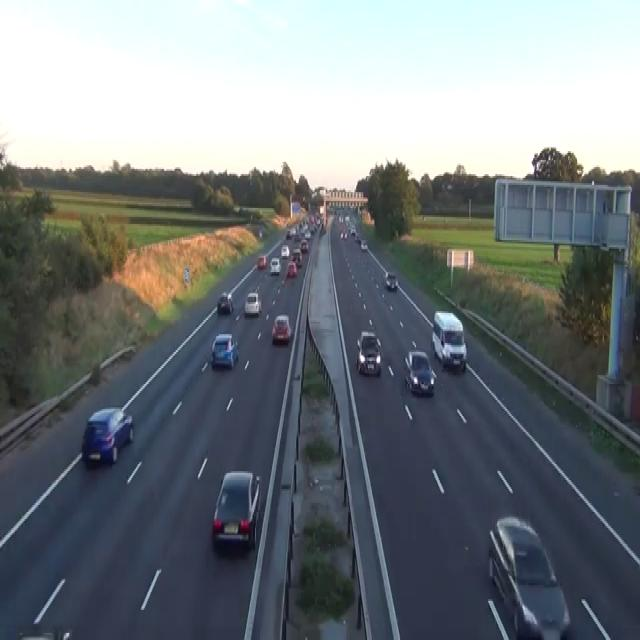Car: (487, 514, 571, 638), (212, 469, 260, 551), (81, 405, 134, 466), (403, 348, 436, 396), (355, 331, 381, 375), (210, 332, 239, 370), (441, 331, 467, 372), (271, 313, 291, 343), (216, 290, 234, 314), (17, 630, 71, 638), (243, 292, 261, 314), (383, 270, 397, 290), (292, 247, 302, 267), (270, 256, 280, 274), (287, 262, 297, 278), (257, 254, 266, 268), (280, 244, 289, 258), (300, 238, 308, 252), (292, 247, 301, 258), (360, 238, 367, 251), (340, 229, 347, 240), (350, 224, 356, 235), (344, 215, 350, 226), (354, 233, 361, 242), (233, 204, 240, 213), (286, 228, 292, 238), (304, 230, 311, 238), (294, 231, 300, 240), (321, 224, 326, 233), (338, 214, 343, 222), (258, 228, 262, 236)
Truck: (431, 309, 467, 372)
